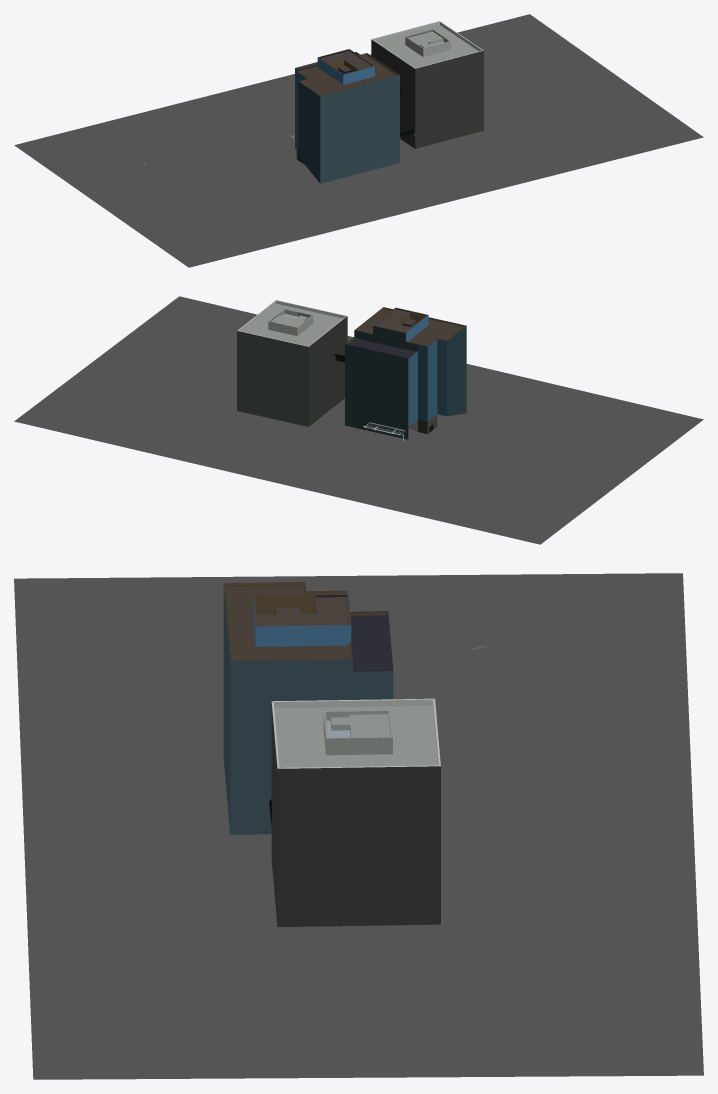
Rendered from krystal-building-tallan-financial-center.glb.
3 renders of one model, top to bottom at view 1: azimuth 30°, elevation 25°; view 2: azimuth 150°, elevation 25°; view 3: azimuth 270°, elevation 25°, orthographic. The views are drawn at different scales.
Parts seen in each view (by area): view 1: LOD0; view 2: LOD0; view 3: LOD0.
Part boxes in pixels (bbox=[...]): LOD0: bbox=[14, 14, 703, 267]; LOD0: bbox=[14, 296, 703, 544]; LOD0: bbox=[14, 573, 703, 1079].
Size of what is drawn, in the model's own units: 270 by 47.4 by 155.
2 materials, 2 textured.
